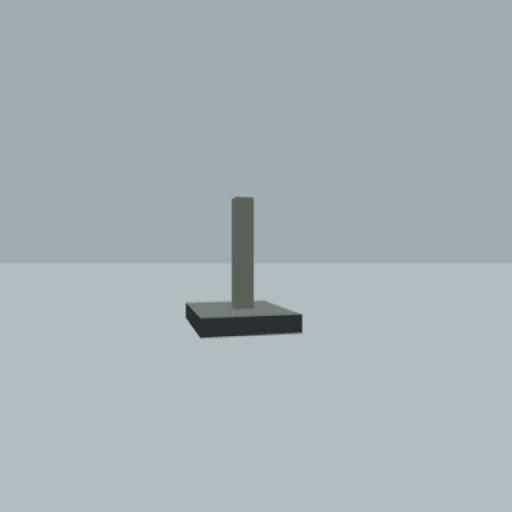platform: (185, 196, 302, 334)
